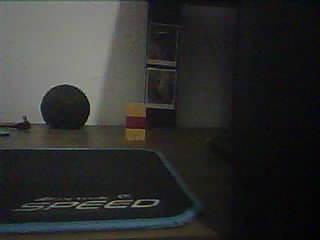lego: (124, 101, 146, 140)
